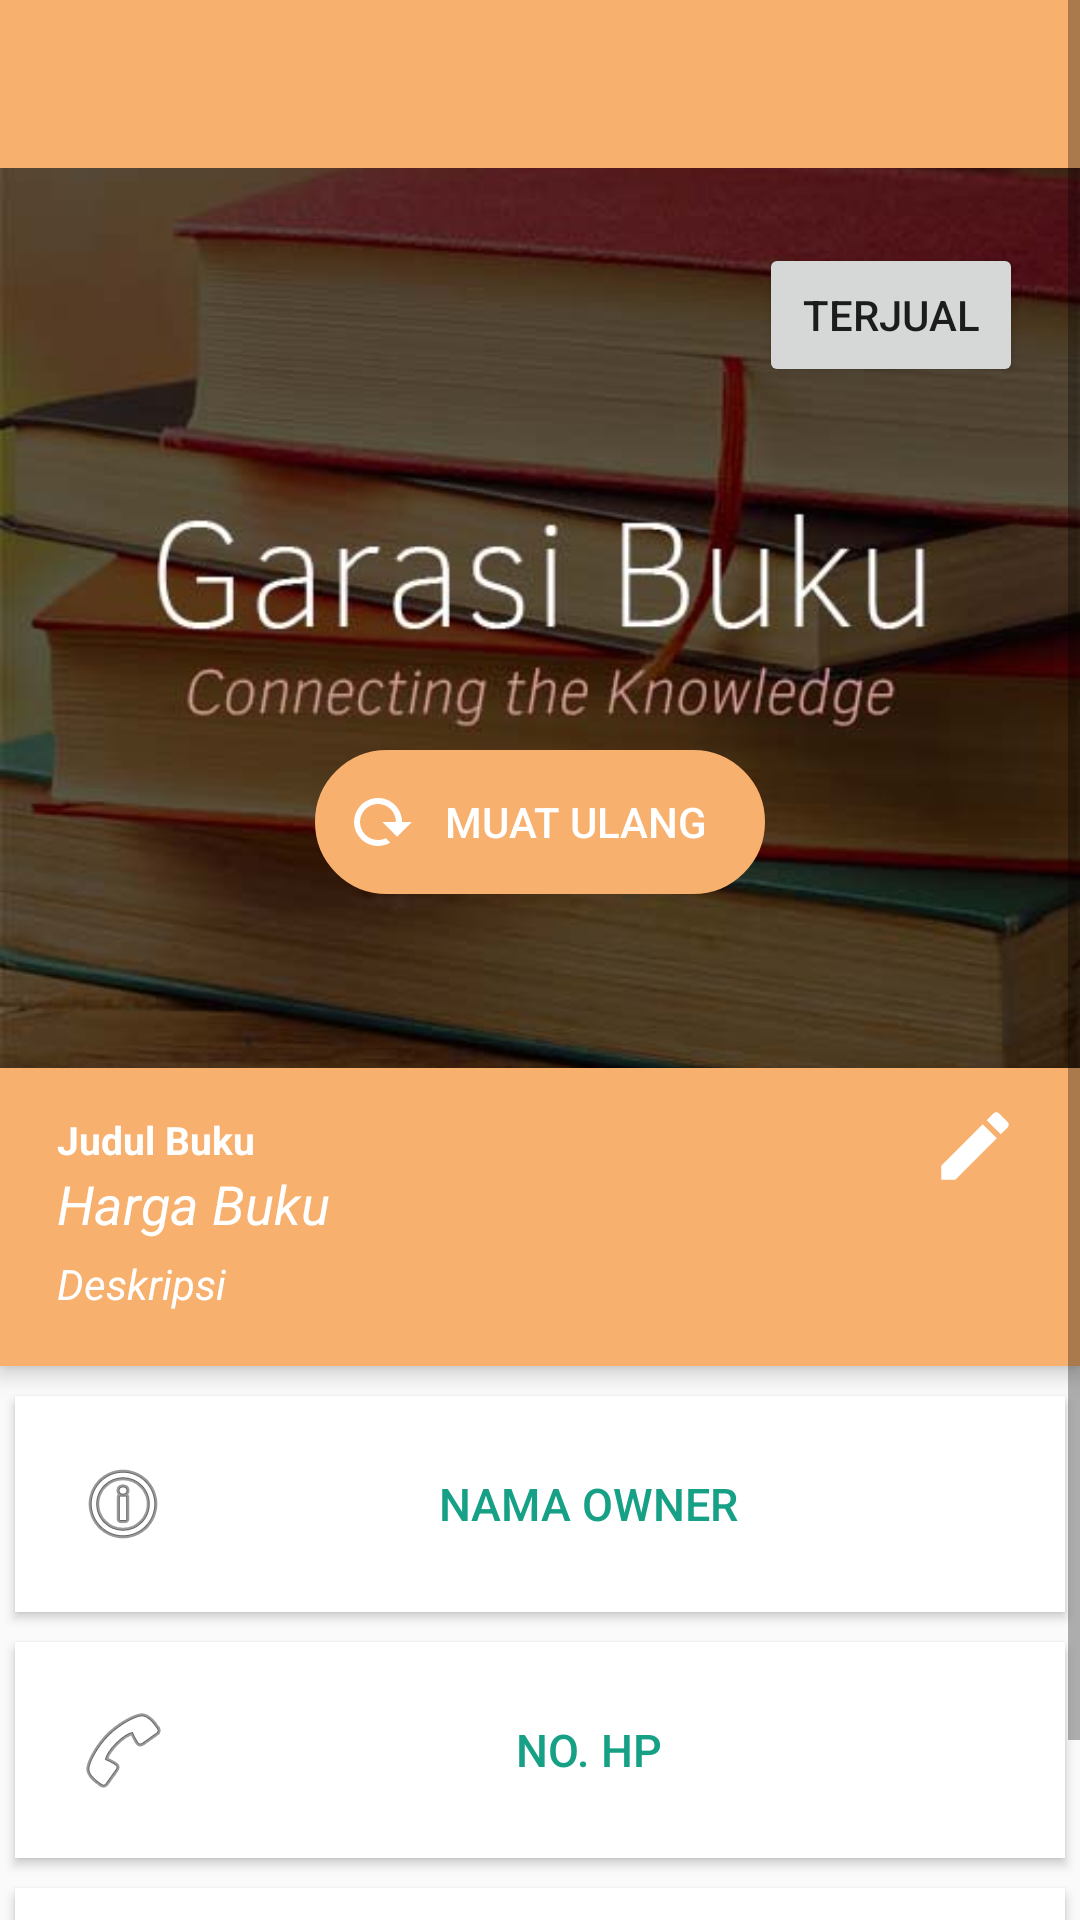

Where icons sit on this 1080w x 1920h app screen, as (x1, y1, x2, y2):
edit: (941, 1112, 1009, 1180)
